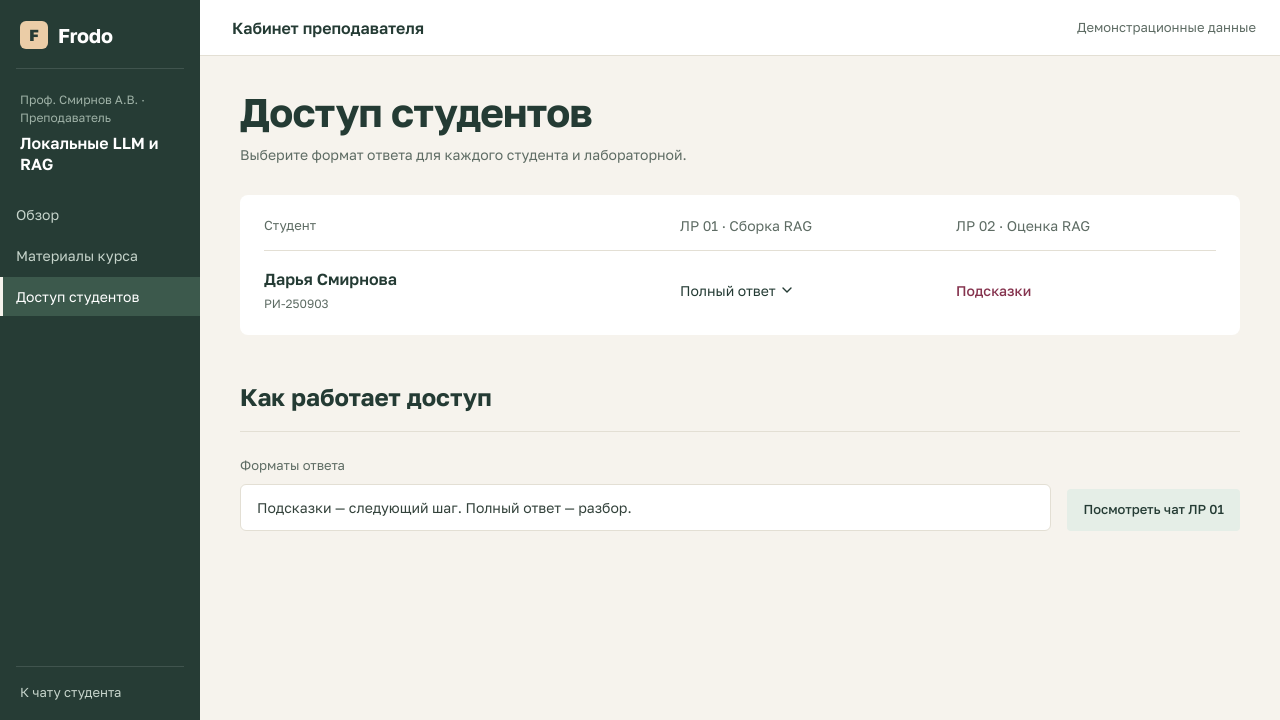
Scenario: чат с наставником › использует выбранный преподавателем формат подсказок
This screenshot has width=1280, height=720.
Click the button "Полный ответ" at point(736, 290), box [680,278,792,302]
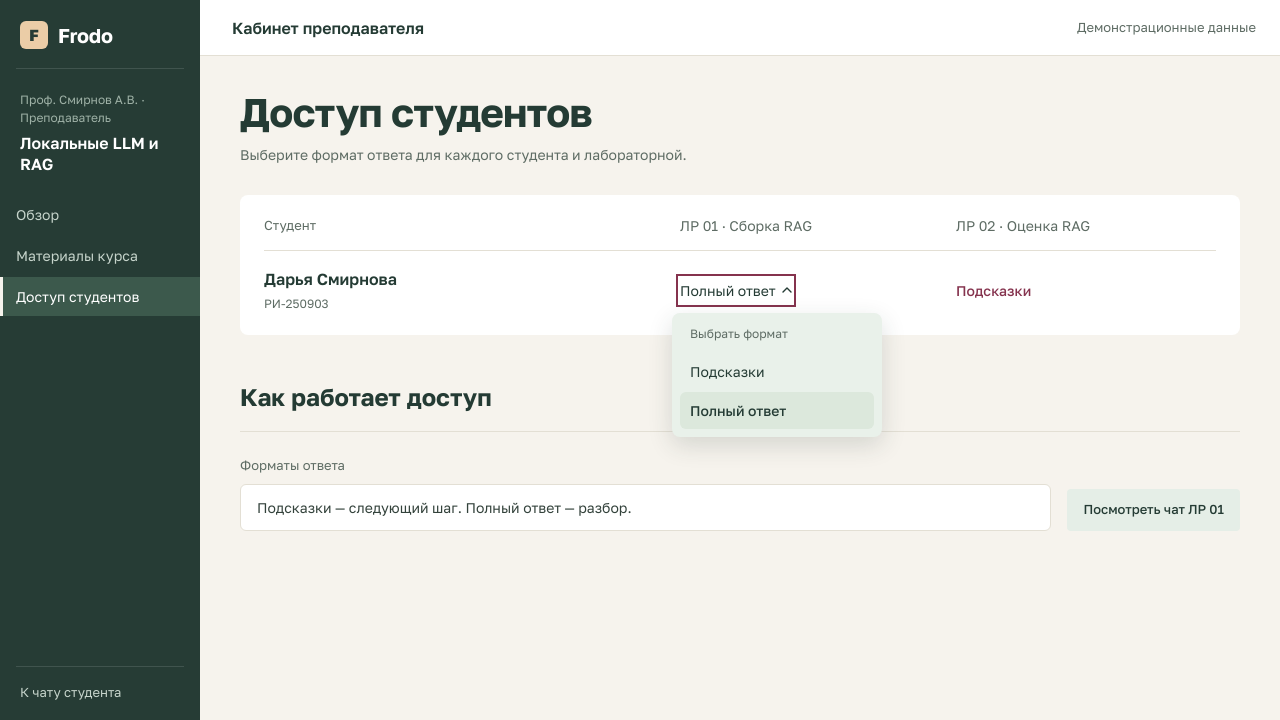
Click the option "Подсказки" at point(777, 371), box [680,352,874,390]
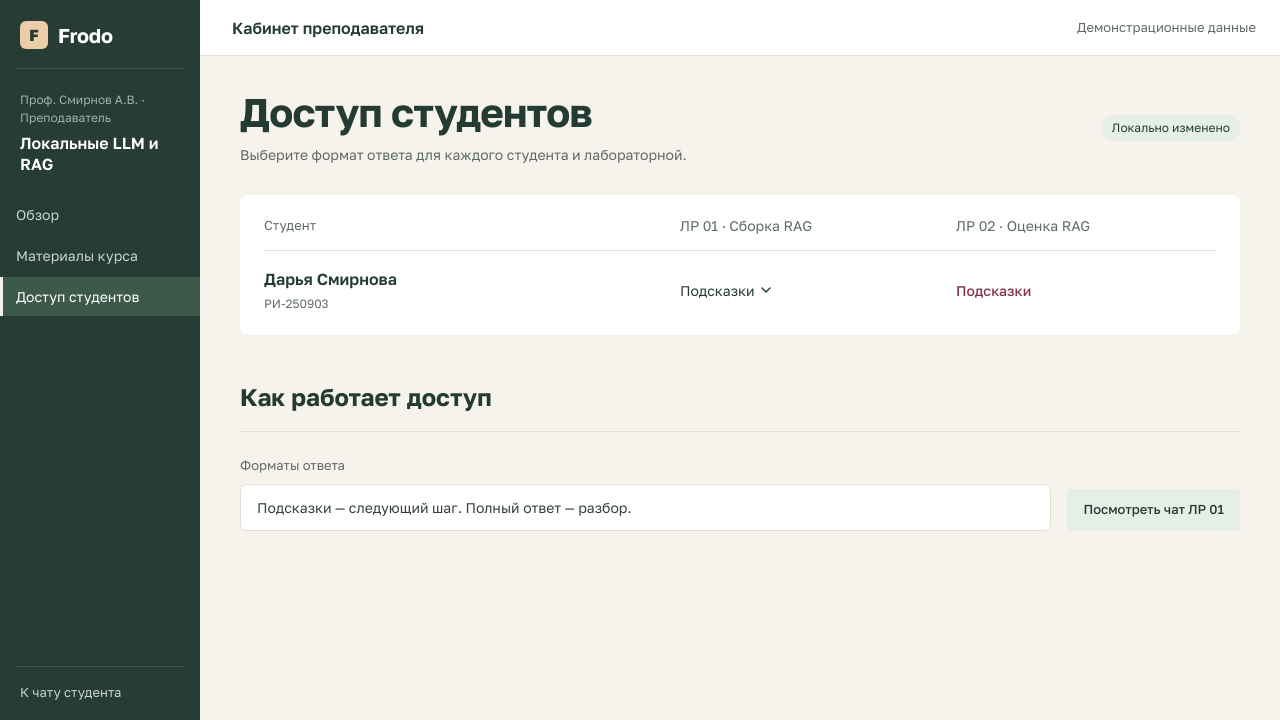
Click the link "Посмотреть чат ЛР 01" at point(1154, 510), box [1067,489,1240,530]
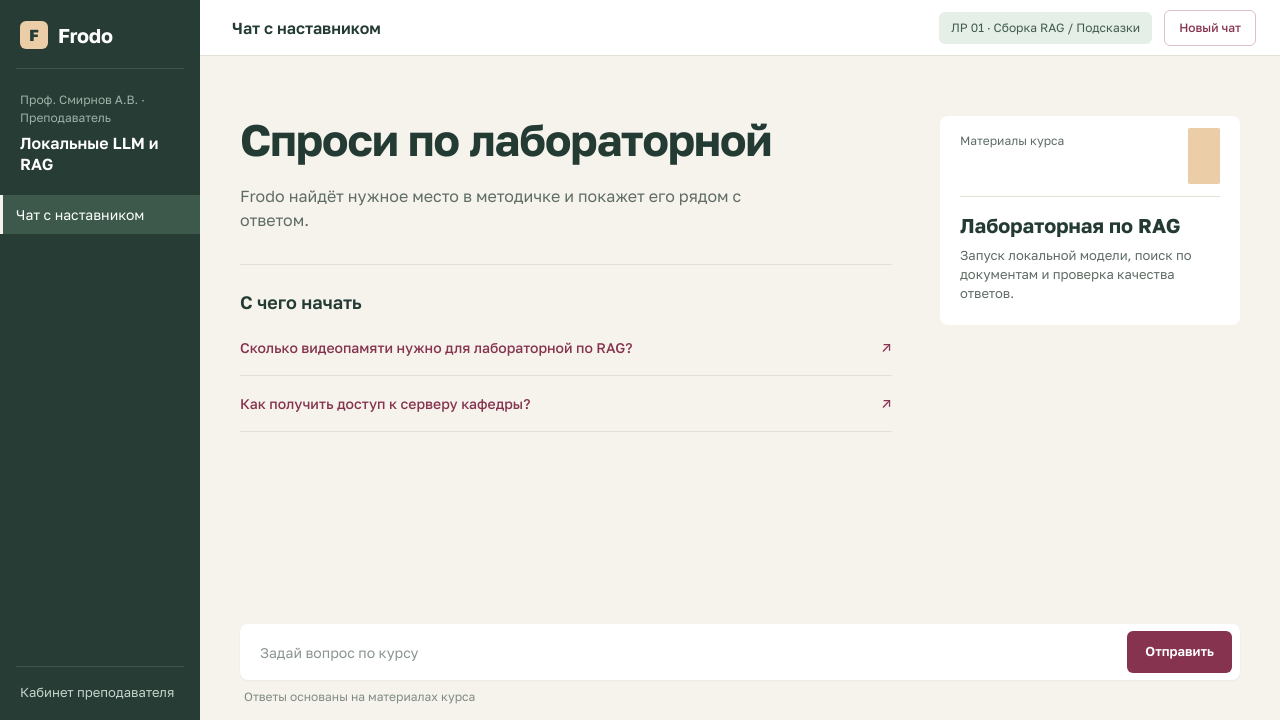
Expected: the text "ЛР 01 · Сборка RAG / Подсказки" is shown, [939,12,1152,44]
Click the button "Сколько видеопамяти нужно для лабораторной по RAG?" at point(566, 348), box [240,320,892,376]
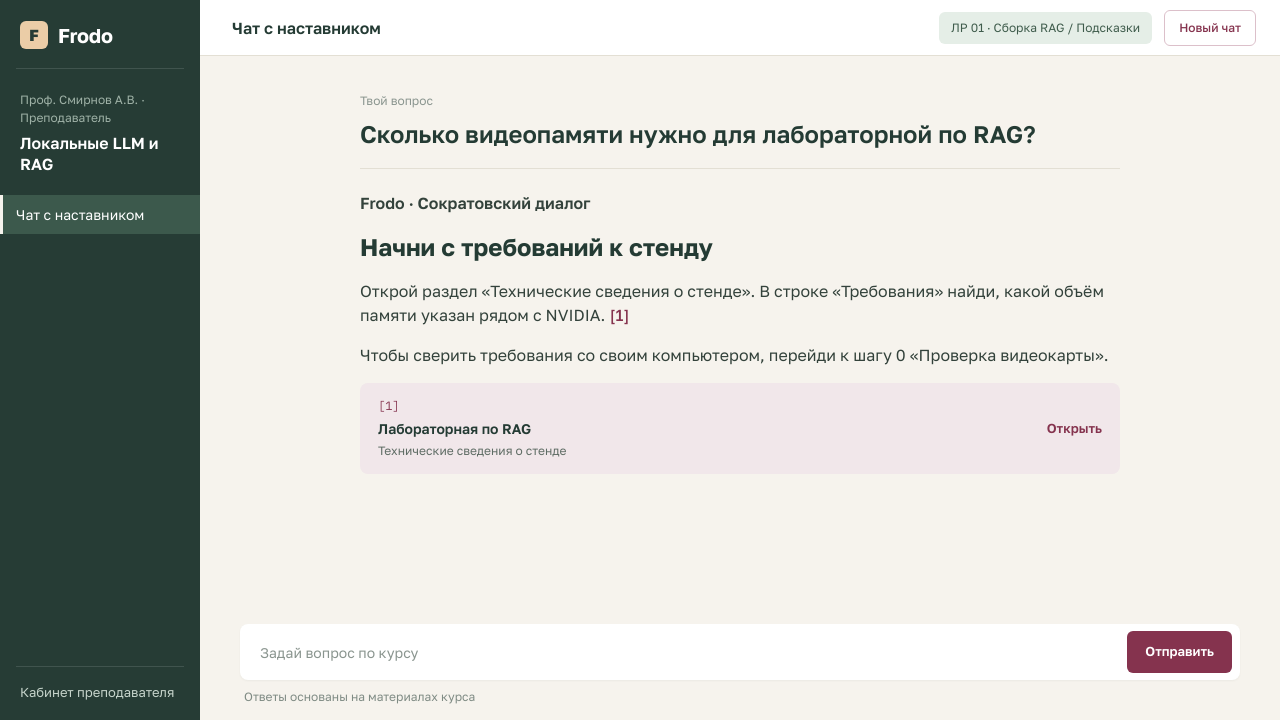
Expected: the heading "Начни с требований к стенду" is shown, [360,232,713,261]
Click the button "Открыть" at point(455, 428), box [360,383,1120,474]
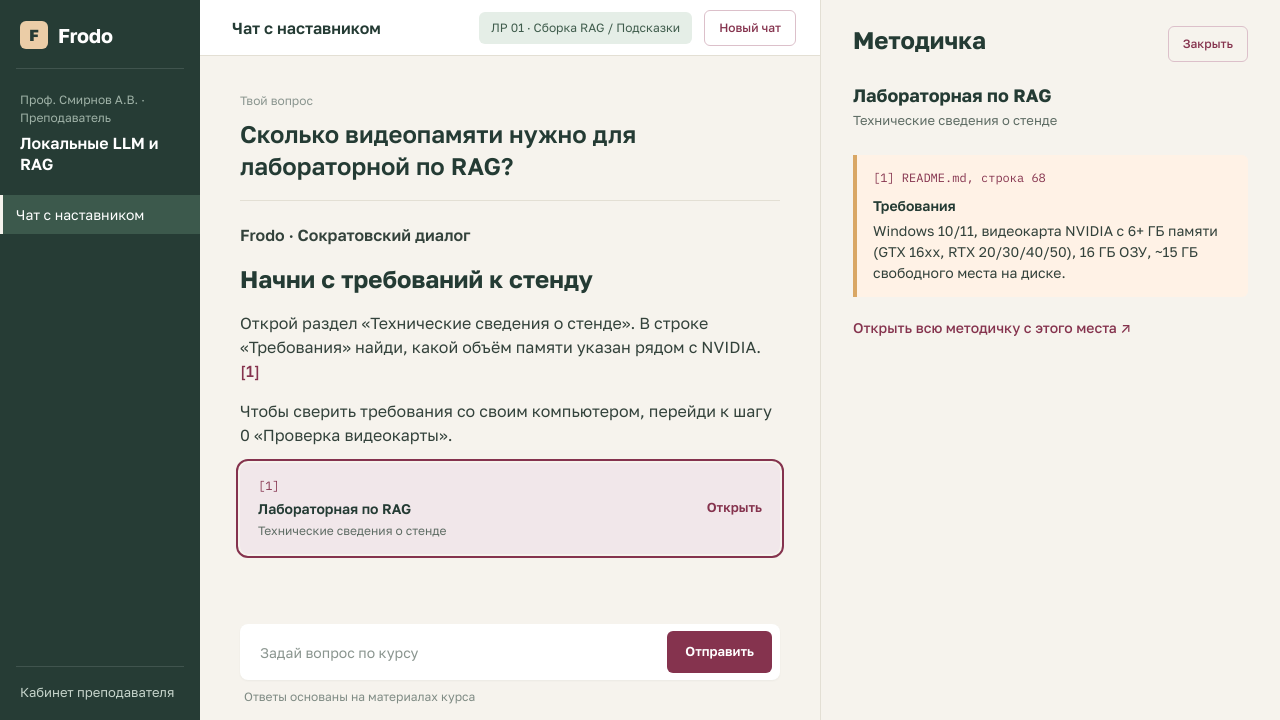
Expected: the text "[1] README.md, строка 68" is shown, [873,170,1046,185]
